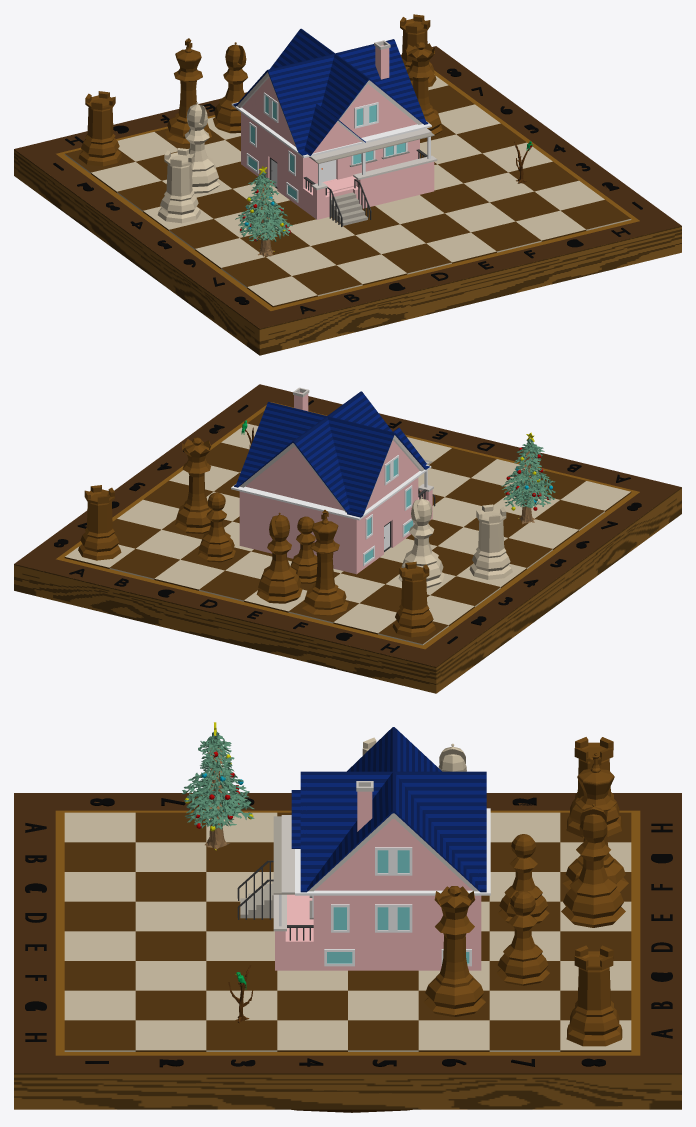
The picture shows the model from 3 angles, top to bottom: view 1: azimuth 30°, elevation 25°; view 2: azimuth 150°, elevation 25°; view 3: azimuth 270°, elevation 25°; orthographic projection. The views are drawn at different scales.
Parts seen in each view (by area): view 1: Cube.002, Cube.313, OBJRANDOM_CHRISTMAS_TREE; view 2: Cube.002, Cube.313, OBJRANDOM_CHRISTMAS_TREE; view 3: Cube.002, Cube.313, OBJRANDOM_CHRISTMAS_TREE.
Part boxes in pixels (box(x1,y1,x2,y2)): Cube.002: box(14, 14, 681, 355); Cube.313: box(231, 28, 437, 226); OBJRANDOM_CHRISTMAS_TREE: box(235, 166, 292, 256); Cube.002: box(14, 384, 681, 693); Cube.313: box(231, 387, 435, 574); OBJRANDOM_CHRISTMAS_TREE: box(501, 432, 555, 524); Cube.002: box(14, 737, 681, 1109); Cube.313: box(237, 727, 490, 970); OBJRANDOM_CHRISTMAS_TREE: box(182, 722, 254, 850).
Bounding box in the file's own units: 3981 × 1551 × 4012.
33 materials, 2 textured.
